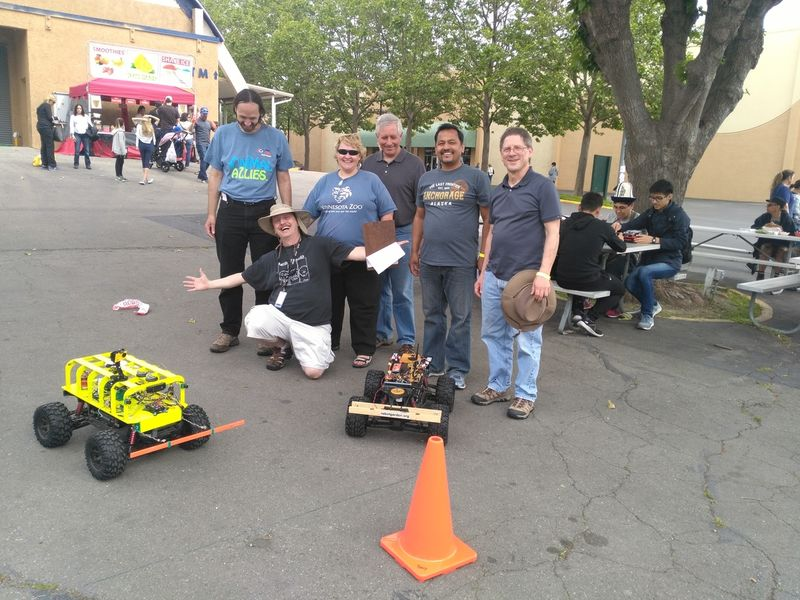trafficcone: (378, 433, 480, 585)
